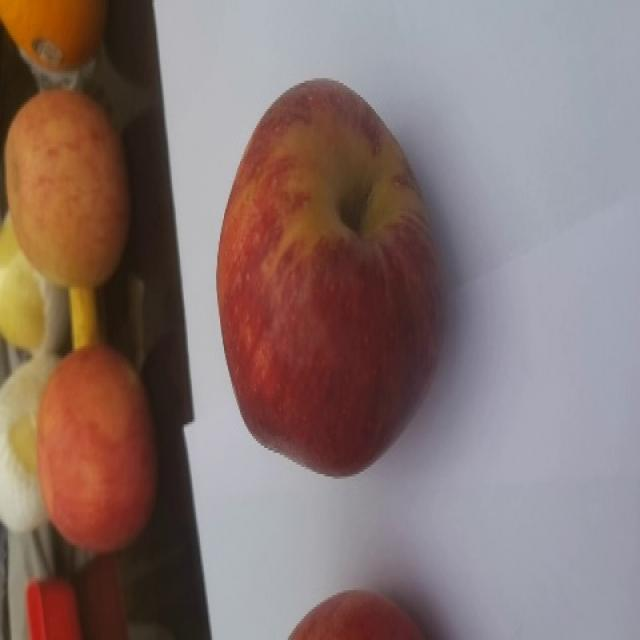Apple: (214, 80, 444, 482), (0, 88, 146, 289), (37, 348, 165, 562), (291, 582, 423, 640)
Orange: (0, 0, 110, 78)
